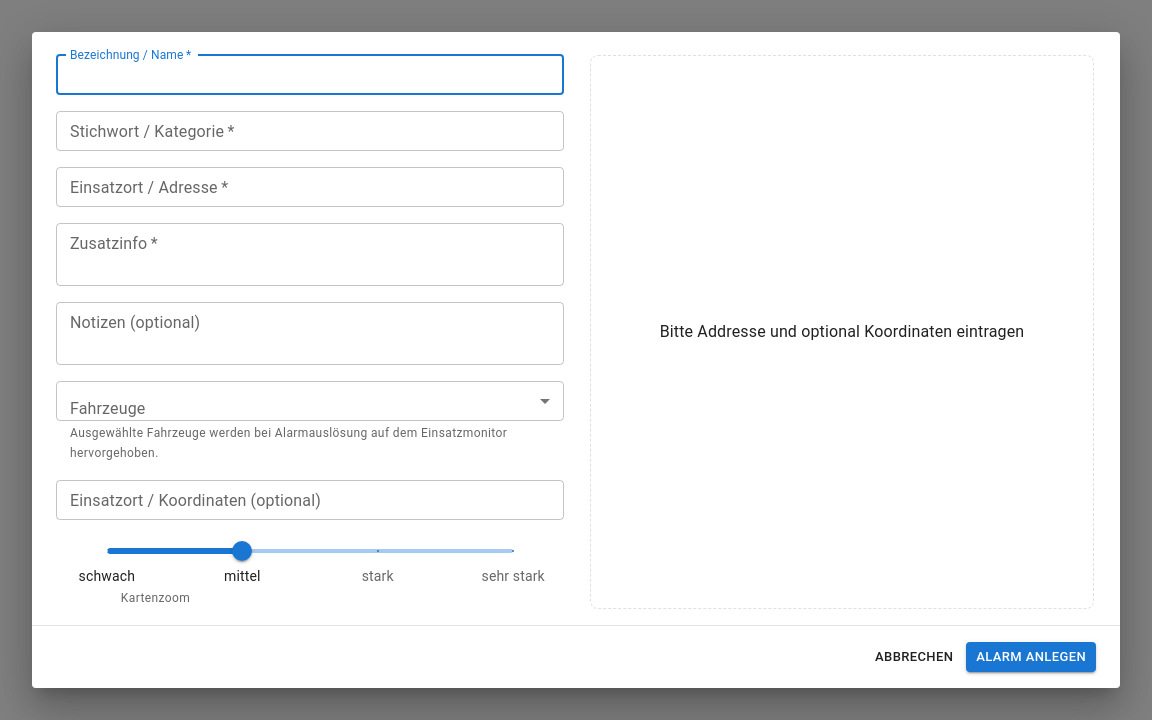
Test case: AlertFormDialog › renders blank form in create mode and validates required fields
This screenshot has width=1152, height=720.
(page scrolled)
Note: Click submit with empty fields
Click the button "Alarm anlegen": click(1031, 657) [966,642,1096,672]
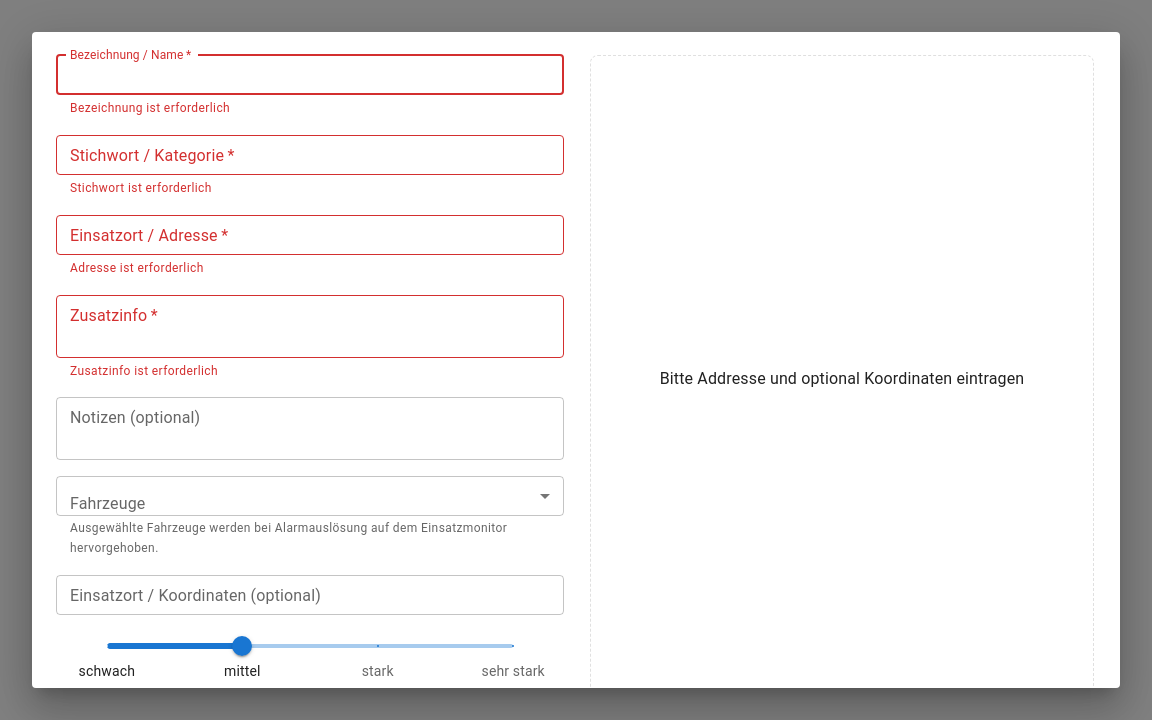
Check: the text "Bezeichnung ist erforderlich" is shown, box [70,101,230,115]
Check: the text "Stichwort ist erforderlich" is shown, box [70,181,212,195]
Check: the text "Adresse ist erforderlich" is shown, box [70,261,204,275]
